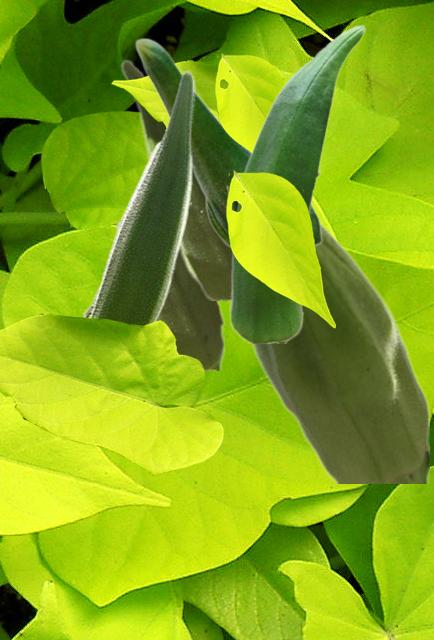okra: (247, 222, 428, 482), (228, 24, 365, 342), (134, 37, 322, 248), (82, 69, 194, 324), (120, 58, 230, 299), (112, 224, 223, 369)
